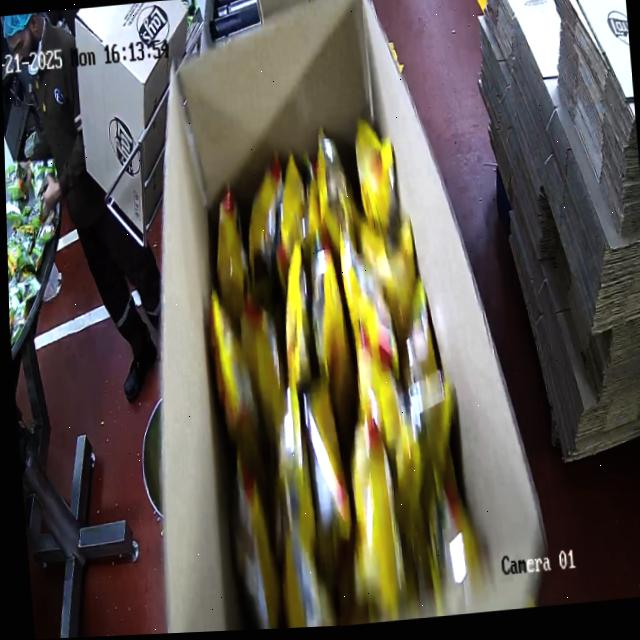SALTED: (185, 135, 492, 632)
